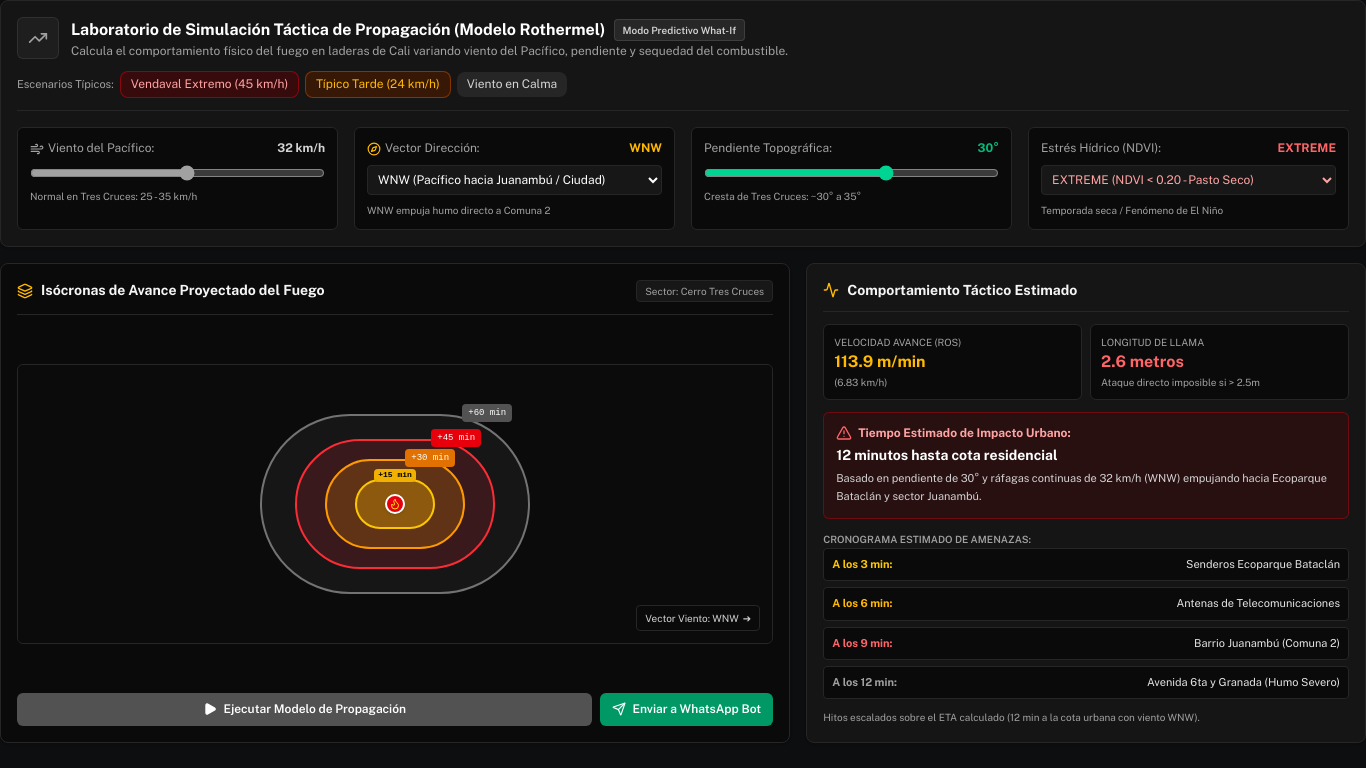
Test: FireSpreadSimulator › con viento ESE descarta la amenaza urbana y cambia el cronograma
Select "ESE (Viento del Valle hacia cordillera)" in the dropdown below "Vector Dirección:": coordinates (514, 180) top-left (367, 165), bottom-right (662, 195)
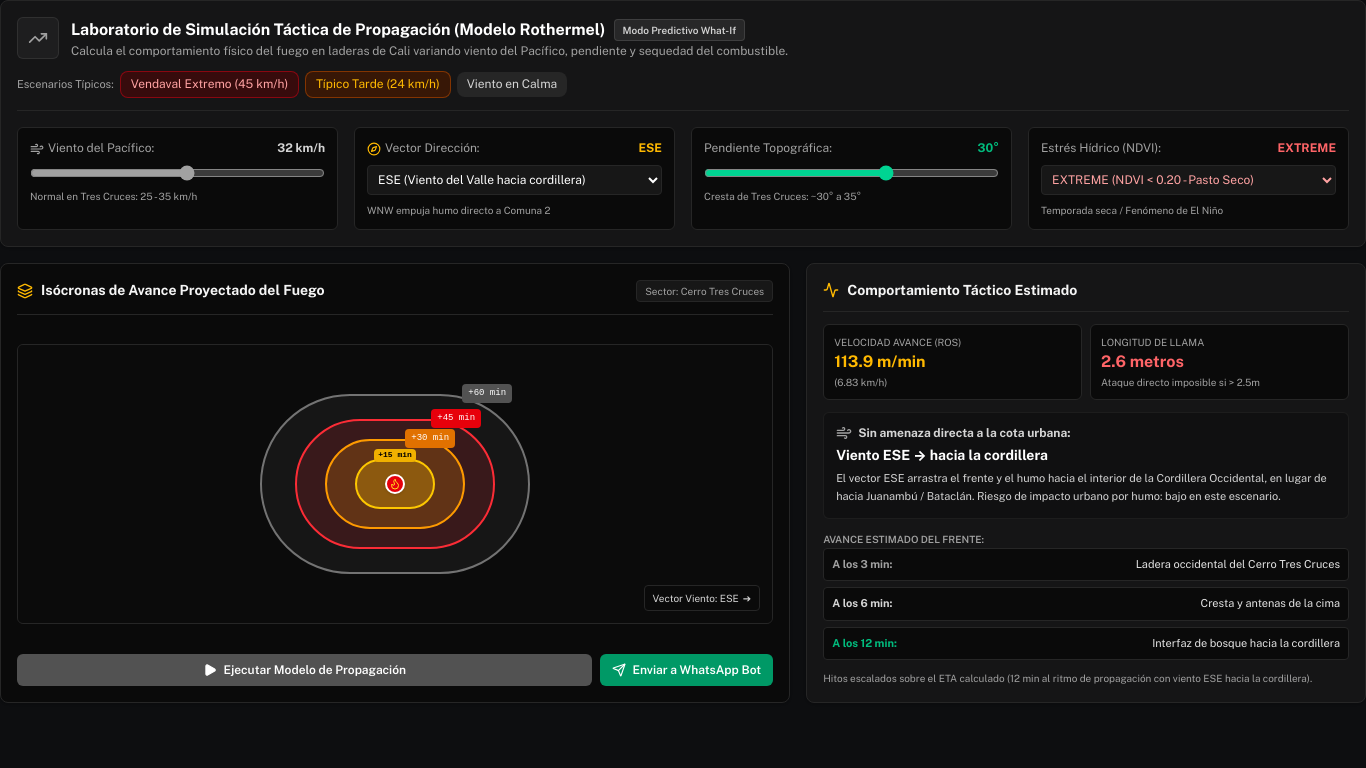
Expected: the text "Sin amenaza directa a la cota urbana:" is shown, top-left (858, 425), bottom-right (1070, 441)
Expected: the text "minutos hasta cota residencial" is gone
Expected: the text "Avance estimado del frente:" is shown, top-left (823, 533), bottom-right (984, 545)
